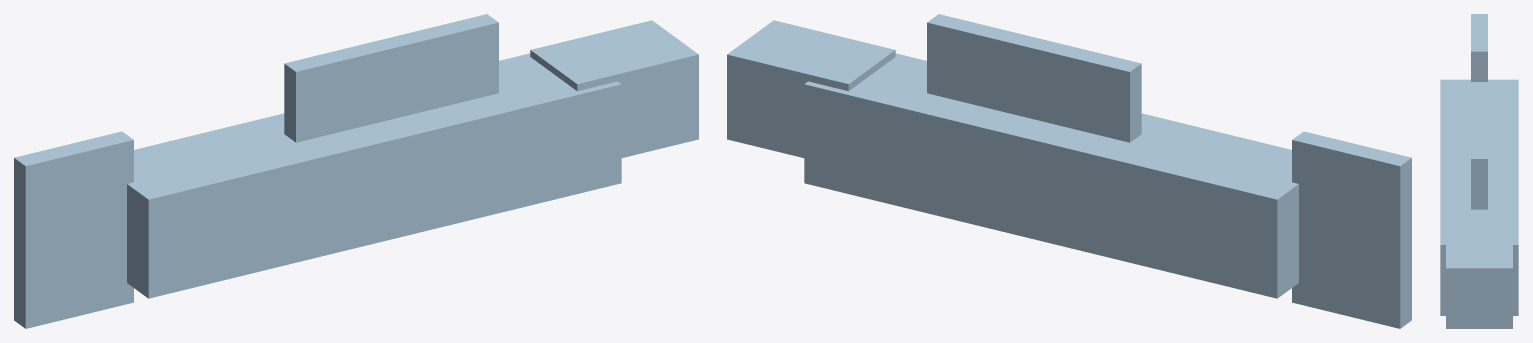
File: fish_frost_smelt.glb
3 views of the same model, side by side, from view 1: azimuth 30°, elevation 25°; view 2: azimuth 150°, elevation 25°; view 3: azimuth 270°, elevation 25° (orthographic). The views are drawn at different scales.
Visible parts, largest first — view 1: species.frost_smelt; view 2: species.frost_smelt; view 3: species.frost_smelt.
Part boxes in pixels (bbox=[...]): species.frost_smelt: bbox=[14, 14, 698, 328]; species.frost_smelt: bbox=[727, 14, 1411, 328]; species.frost_smelt: bbox=[1440, 14, 1518, 328].
Size of the model in its own units: 0.3 by 0.0835 by 0.0433.
